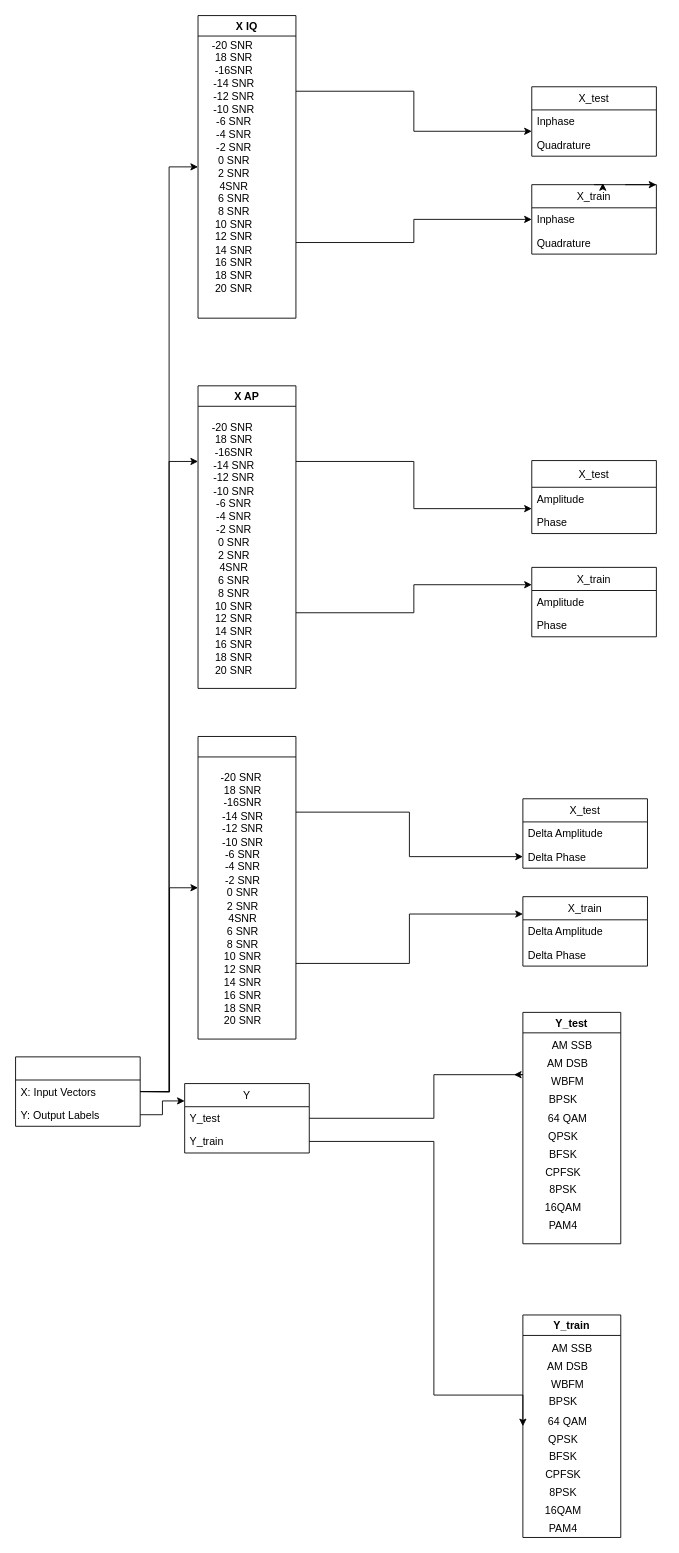
The diagram is 679 pixels wide and 1553 high, and some of its shapes have lost their labels. Each missing label, with the box of its shape:
DataSet: (15, 1056, 140, 1126)
X Delta A Delta P: (197, 736, 296, 1039)
